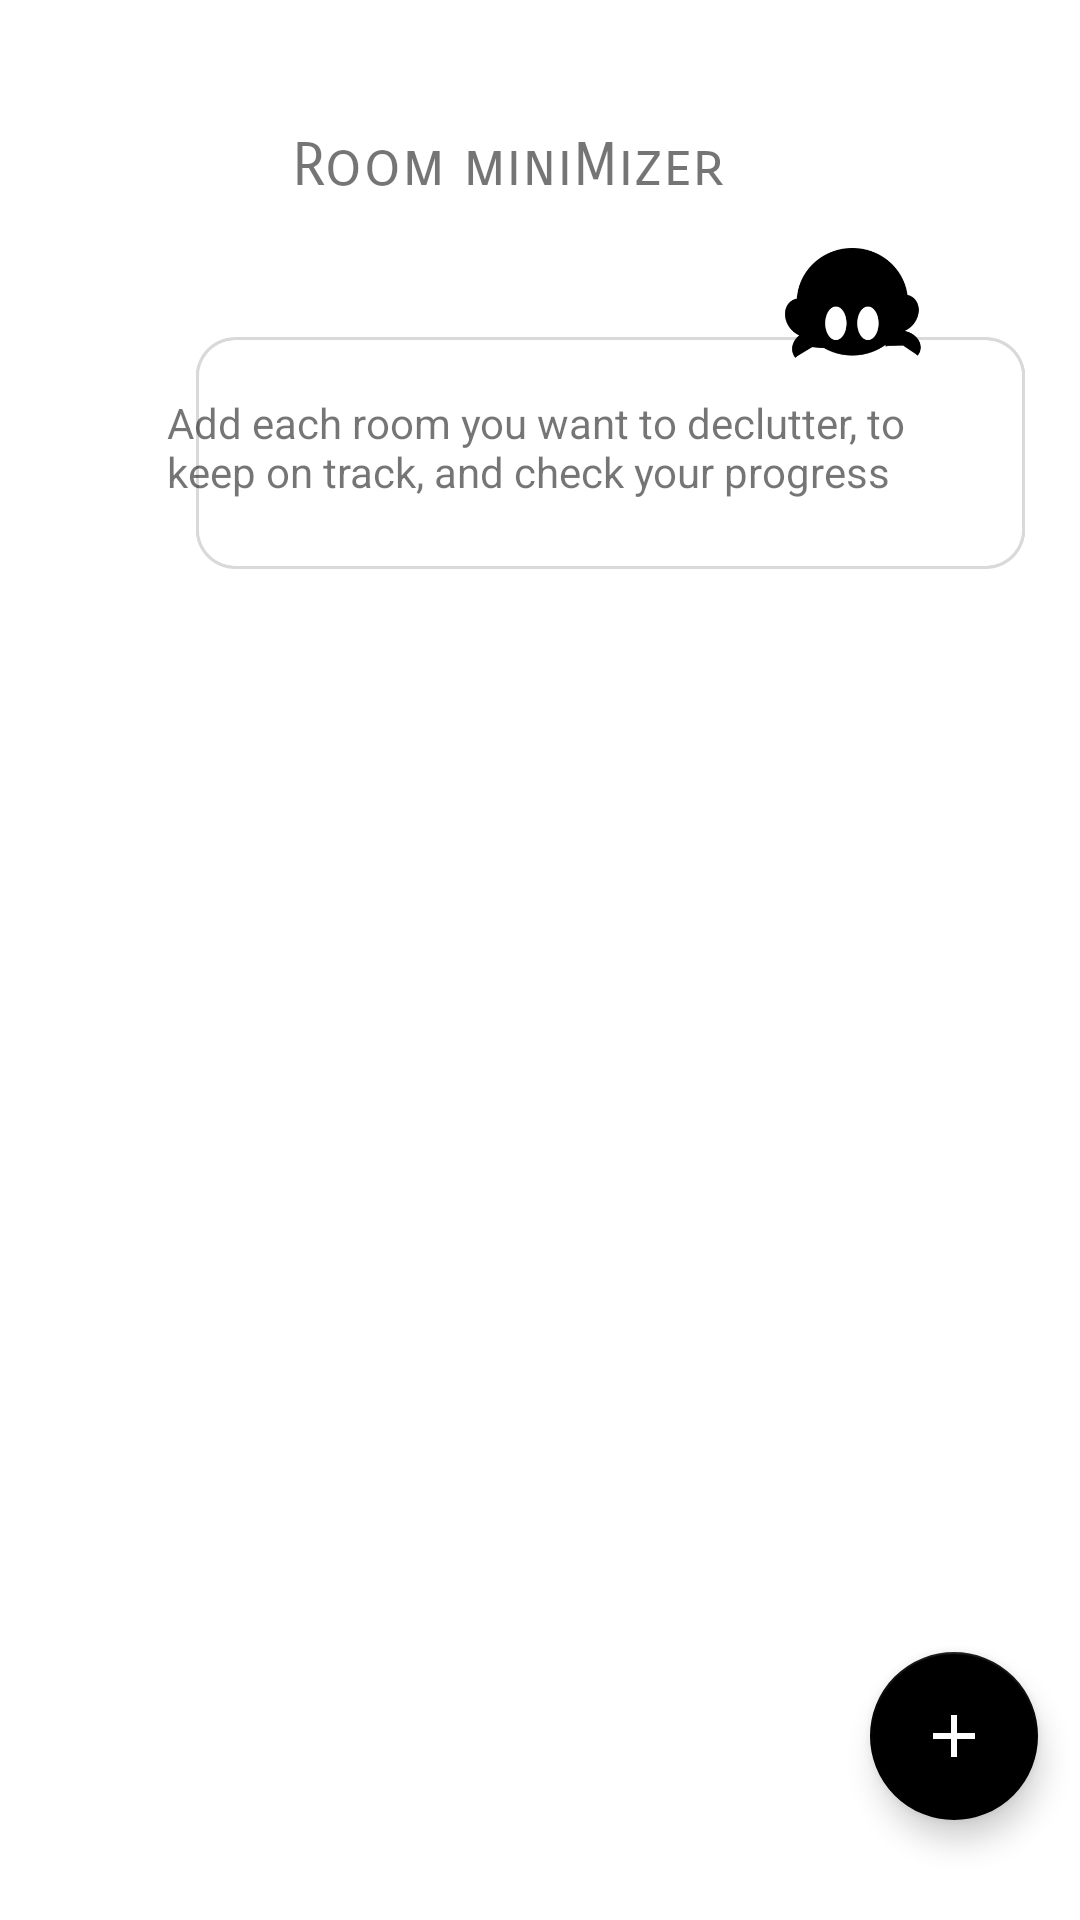

Icon bounding boxes for this 1080px x 1920px phone screenshot, format (x1, y1, x2, y2):
add: (870, 1652, 1038, 1820)
